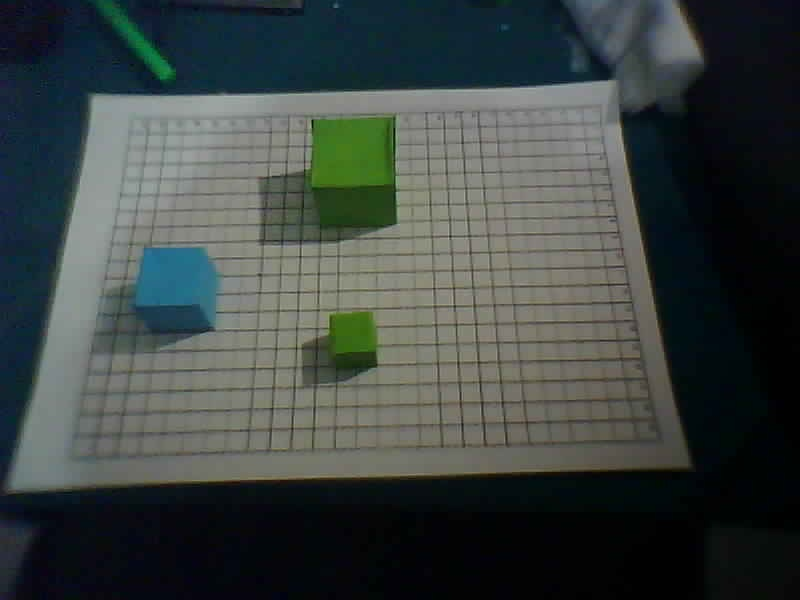LB: (68, 454, 76, 460)
LT: (129, 115, 137, 121)
RB: (656, 439, 664, 445)
RT: (596, 101, 604, 107)
